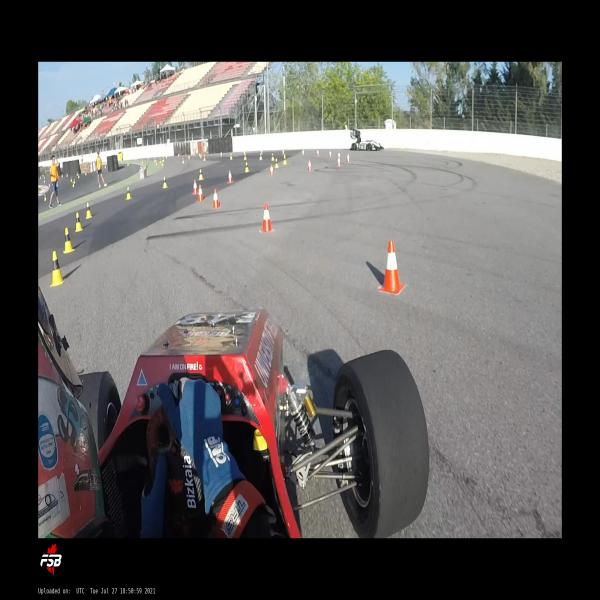orange_cone: (378, 240, 405, 294), (260, 203, 274, 232), (212, 188, 221, 208), (197, 185, 204, 201), (227, 170, 234, 184), (192, 180, 198, 195), (336, 155, 341, 168), (270, 164, 275, 176), (307, 159, 312, 171), (346, 154, 350, 164), (328, 150, 332, 159), (316, 149, 320, 157), (282, 150, 285, 156), (261, 149, 263, 155), (178, 153, 180, 158), (188, 155, 190, 160), (220, 151, 222, 156), (302, 150, 304, 155)
yellow_cone: (50, 251, 65, 287), (62, 227, 75, 253), (74, 212, 83, 232), (85, 202, 94, 218), (126, 186, 132, 200), (162, 176, 168, 188), (199, 168, 204, 180), (245, 161, 250, 172), (283, 154, 287, 165), (275, 158, 279, 168), (72, 180, 76, 188), (259, 152, 263, 160), (271, 153, 275, 160), (244, 153, 248, 160), (44, 194, 47, 201), (230, 153, 233, 160), (182, 157, 185, 163), (162, 160, 164, 166), (204, 155, 206, 161), (154, 158, 156, 163), (155, 160, 157, 165)
